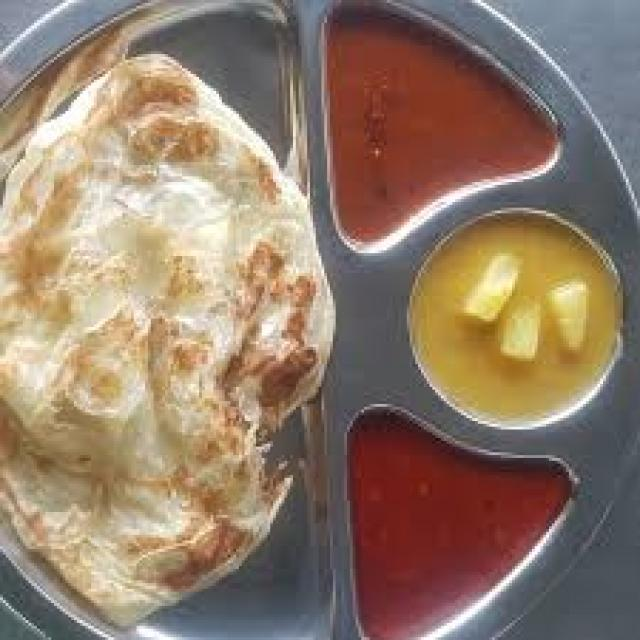Paratha: (10, 47, 326, 625)
